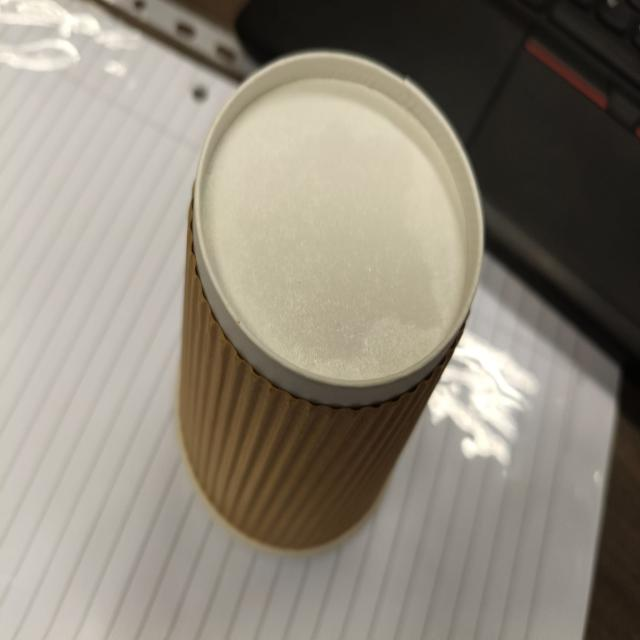Browncup: (186, 86, 483, 552)
